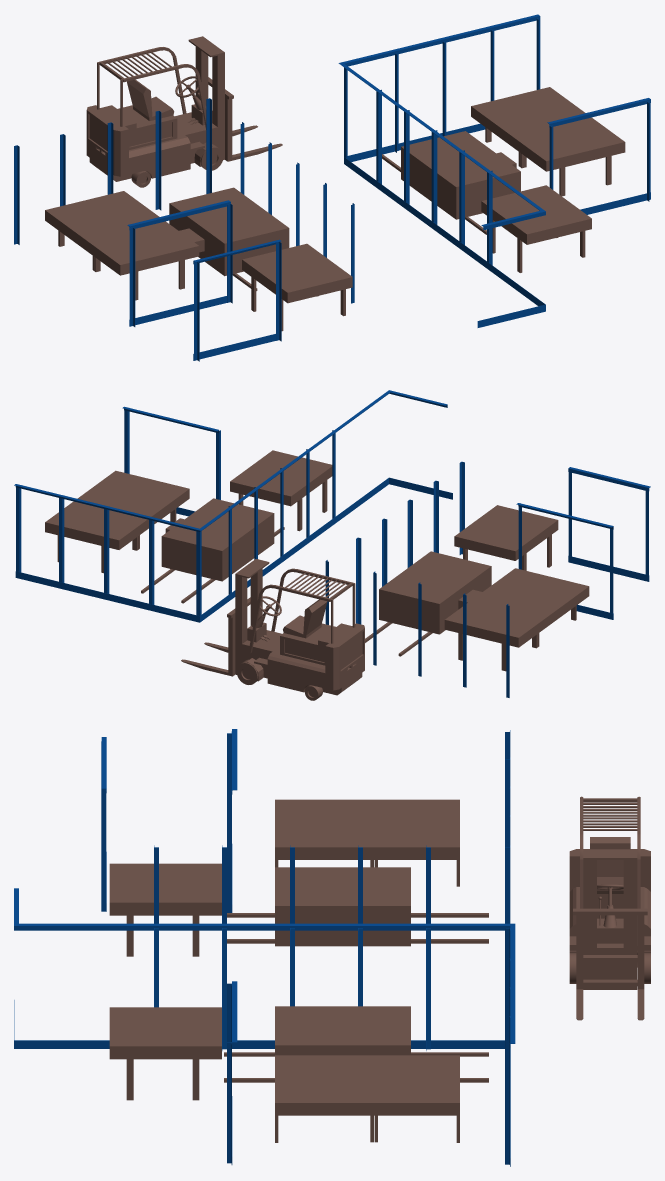
Rendered from GCC-AAV-13220-30.nwd(19).fbx.
3 renders of one model, top to bottom at view 1: azimuth 30°, elevation 25°; view 2: azimuth 150°, elevation 25°; view 3: azimuth 270°, elevation 25°, orthographic. The views are drawn at different scales.
Visible parts, largest first — view 1: BOX 5 of SUBEQUIPMENT 58 of EQUIPMENT /726-U-602, BOX 5 of SUBEQUIPMENT 34 of EQUIPMENT /726-U-601, EXTRUSION 3 of EQUIPMENT 19 of ZONE /13220-10-5201/ME/GT, BOX 1 of SUBEQUIPMENT 58 of EQUIPMENT /726-U-602, BOX 1 of SUBEQUIPMENT 34 of EQUIPMENT /726-U-601, BOX 6 of SUBEQUIPMENT 35 of EQUIPMENT /726-U-601, BOX 6 of SUBEQUIPMENT 57 of EQUIPMENT /726-U-602, GENSEC 14 of TMPLATE 1 of SUBEQUIPMENT 13 of EQUIPMENT /726-, GENSEC 15 of TMPLATE 1 of SUBEQUIPMENT 13 of EQUIPMENT /726-, BOX 5 of EQUIPMENT 19 of ZONE /13220-10-5201/ME/GT, EXTRUSION 2 of EQUIPMENT 19 of ZONE /13220-10-5201/ME/GT, GENSEC 1 of TMPLATE 1 of SUBEQUIPMENT 9 of EQUIPMENT /726-U- (+19 smaller); view 2: EXTRUSION 3 of EQUIPMENT 19 of ZONE /13220-10-5201/ME/GT, BOX 5 of SUBEQUIPMENT 34 of EQUIPMENT /726-U-601, BOX 5 of SUBEQUIPMENT 58 of EQUIPMENT /726-U-602, BOX 1 of SUBEQUIPMENT 58 of EQUIPMENT /726-U-602, BOX 1 of SUBEQUIPMENT 34 of EQUIPMENT /726-U-601, BOX 6 of SUBEQUIPMENT 35 of EQUIPMENT /726-U-601, BOX 6 of SUBEQUIPMENT 57 of EQUIPMENT /726-U-602, GENSEC 14 of TMPLATE 1 of SUBEQUIPMENT 13 of EQUIPMENT /726-, GENSEC 15 of TMPLATE 1 of SUBEQUIPMENT 13 of EQUIPMENT /726-, BOX 4 of EQUIPMENT 19 of ZONE /13220-10-5201/ME/GT, EXTRUSION 1 of EQUIPMENT 19 of ZONE /13220-10-5201/ME/GT, GENSEC 3 of TMPLATE 1 of SUBEQUIPMENT 8 of EQUIPMENT /726-U- (+9 smaller); view 3: BOX 5 of SUBEQUIPMENT 58 of EQUIPMENT /726-U-602, BOX 5 of SUBEQUIPMENT 34 of EQUIPMENT /726-U-601, BOX 1 of SUBEQUIPMENT 34 of EQUIPMENT /726-U-601, BOX 1 of SUBEQUIPMENT 58 of EQUIPMENT /726-U-602, BOX 6 of SUBEQUIPMENT 57 of EQUIPMENT /726-U-602, BOX 6 of SUBEQUIPMENT 35 of EQUIPMENT /726-U-601, GENSEC 15 of TMPLATE 1 of SUBEQUIPMENT 13 of EQUIPMENT /726-, EXTRUSION 3 of EQUIPMENT 19 of ZONE /13220-10-5201/ME/GT, GENSEC 14 of TMPLATE 1 of SUBEQUIPMENT 13 of EQUIPMENT /726-, BOX 4 of EQUIPMENT 19 of ZONE /13220-10-5201/ME/GT, BOX 5 of EQUIPMENT 19 of ZONE /13220-10-5201/ME/GT, EXTRUSION 5 of EQUIPMENT 19 of ZONE /13220-10-5201/ME/GT (+4 smaller).
Boxes of the visible parts, x1,y1,x2,y2 form: BOX 5 of SUBEQUIPMENT 58 of EQUIPMENT /726-U-602: [471, 87, 625, 171]; BOX 5 of SUBEQUIPMENT 34 of EQUIPMENT /726-U-601: [45, 191, 199, 275]; EXTRUSION 3 of EQUIPMENT 19 of ZONE /13220-10-5201/ME/GT: [86, 105, 224, 181]; BOX 1 of SUBEQUIPMENT 58 of EQUIPMENT /726-U-602: [401, 131, 520, 219]; BOX 1 of SUBEQUIPMENT 34 of EQUIPMENT /726-U-601: [169, 187, 289, 276]; BOX 6 of SUBEQUIPMENT 35 of EQUIPMENT /726-U-601: [242, 243, 352, 303]; BOX 6 of SUBEQUIPMENT 57 of EQUIPMENT /726-U-602: [481, 185, 591, 244]; GENSEC 14 of TMPLATE 1 of SUBEQUIPMENT 13 of EQUIPMENT /726-: [344, 123, 545, 327]; GENSEC 15 of TMPLATE 1 of SUBEQUIPMENT 13 of EQUIPMENT /726-: [338, 14, 545, 230]; BOX 5 of EQUIPMENT 19 of ZONE /13220-10-5201/ME/GT: [212, 54, 224, 126]; EXTRUSION 2 of EQUIPMENT 19 of ZONE /13220-10-5201/ME/GT: [225, 97, 282, 161]; GENSEC 1 of TMPLATE 1 of SUBEQUIPMENT 9 of EQUIPMENT /726-U-: [129, 227, 135, 326]; EXTRUSION 3 of EQUIPMENT 19 of ZONE /13220-10-5201/ME/GT: [235, 623, 364, 695]; BOX 5 of SUBEQUIPMENT 34 of EQUIPMENT /726-U-601: [444, 568, 589, 647]; BOX 5 of SUBEQUIPMENT 58 of EQUIPMENT /726-U-602: [45, 470, 189, 549]; BOX 1 of SUBEQUIPMENT 58 of EQUIPMENT /726-U-602: [161, 498, 274, 581]; BOX 1 of SUBEQUIPMENT 34 of EQUIPMENT /726-U-601: [379, 551, 491, 634]; BOX 6 of SUBEQUIPMENT 35 of EQUIPMENT /726-U-601: [454, 505, 558, 560]; BOX 6 of SUBEQUIPMENT 57 of EQUIPMENT /726-U-602: [230, 450, 332, 506]; GENSEC 14 of TMPLATE 1 of SUBEQUIPMENT 13 of EQUIPMENT /726-: [15, 477, 452, 622]; GENSEC 15 of TMPLATE 1 of SUBEQUIPMENT 13 of EQUIPMENT /726-: [14, 390, 447, 532]; BOX 4 of EQUIPMENT 19 of ZONE /13220-10-5201/ME/GT: [235, 575, 247, 643]; EXTRUSION 1 of EQUIPMENT 19 of ZONE /13220-10-5201/ME/GT: [181, 616, 235, 676]; GENSEC 3 of TMPLATE 1 of SUBEQUIPMENT 8 of EQUIPMENT /726-U-: [568, 555, 649, 581]; BOX 5 of SUBEQUIPMENT 58 of EQUIPMENT /726-U-602: [275, 1055, 459, 1115]; BOX 5 of SUBEQUIPMENT 34 of EQUIPMENT /726-U-601: [275, 799, 459, 859]; BOX 1 of SUBEQUIPMENT 34 of EQUIPMENT /726-U-601: [275, 867, 410, 946]; BOX 1 of SUBEQUIPMENT 58 of EQUIPMENT /726-U-602: [275, 1006, 410, 1055]; BOX 6 of SUBEQUIPMENT 57 of EQUIPMENT /726-U-602: [109, 1007, 221, 1059]; BOX 6 of SUBEQUIPMENT 35 of EQUIPMENT /726-U-601: [109, 863, 221, 915]; GENSEC 15 of TMPLATE 1 of SUBEQUIPMENT 13 of EQUIPMENT /726-: [14, 888, 515, 1047]; EXTRUSION 3 of EQUIPMENT 19 of ZONE /13220-10-5201/ME/GT: [569, 849, 650, 989]; GENSEC 14 of TMPLATE 1 of SUBEQUIPMENT 13 of EQUIPMENT /726-: [14, 1000, 510, 1166]; BOX 4 of EQUIPMENT 19 of ZONE /13220-10-5201/ME/GT: [623, 860, 637, 947]; BOX 5 of EQUIPMENT 19 of ZONE /13220-10-5201/ME/GT: [583, 860, 596, 947]; EXTRUSION 5 of EQUIPMENT 19 of ZONE /13220-10-5201/ME/GT: [590, 837, 630, 876].
Bounding box in the file's own units: 433 × 87.79 × 369.
